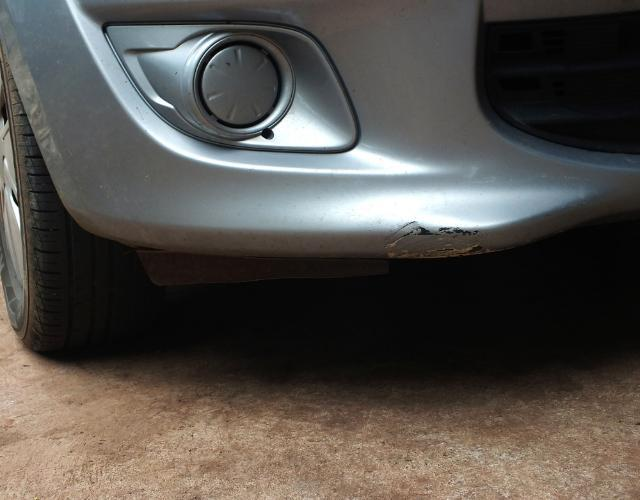scratch: (386, 217, 505, 259)
